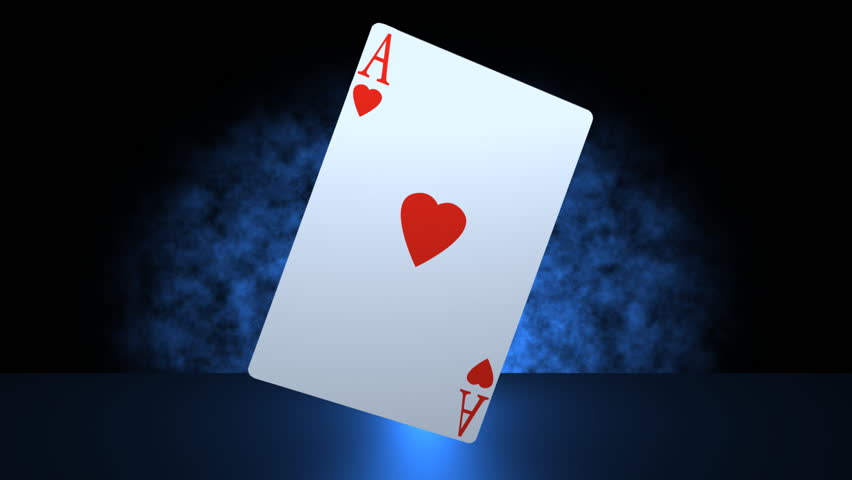ace of hearts: (250, 23, 592, 438)
